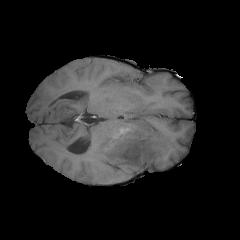glioma: (89, 117, 173, 183)
